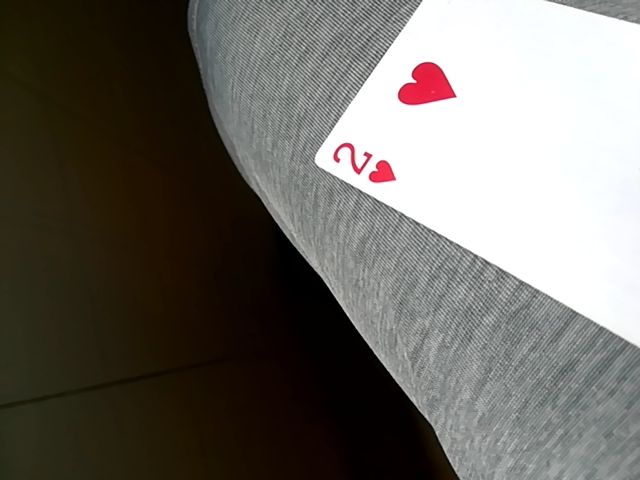hx 2: (309, 4, 640, 369)
